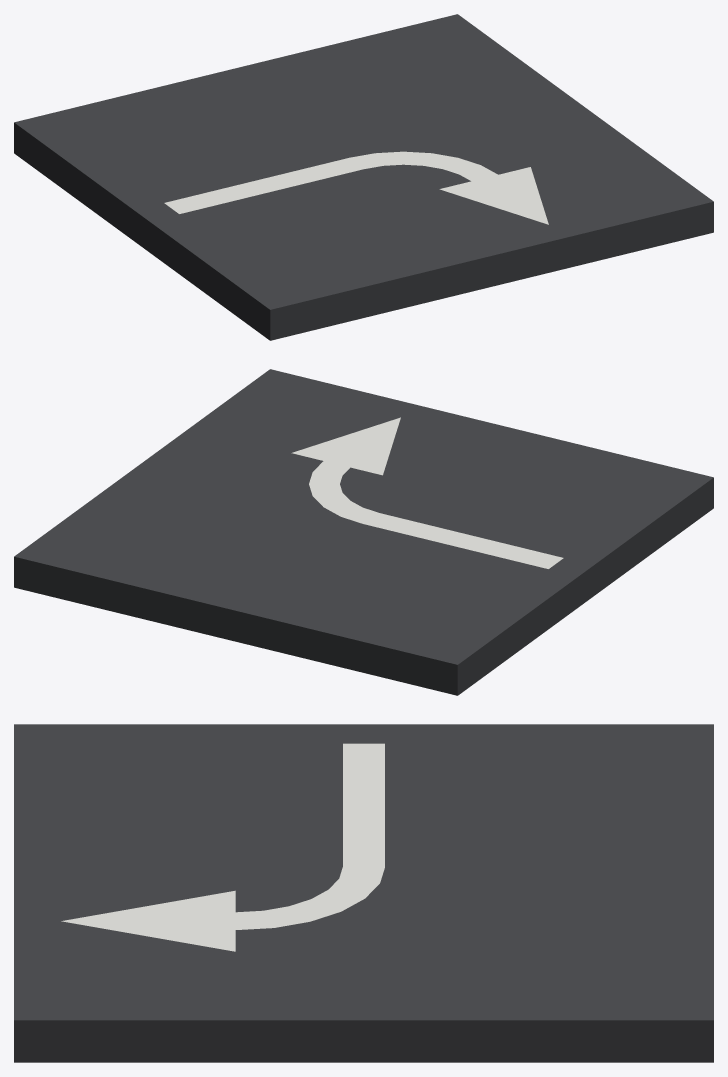
Rendered from SC_Gnd_Road_Arrow_Right.gltf.
3 renders of one model, top to bottom at view 1: azimuth 30°, elevation 25°; view 2: azimuth 150°, elevation 25°; view 3: azimuth 270°, elevation 25°, orthographic. The views are drawn at different scales.
Parts seen in each view (by area): view 1: SC_Gnd_Road_Arrow_Right; view 2: SC_Gnd_Road_Arrow_Right; view 3: SC_Gnd_Road_Arrow_Right.
Boxes of the visible parts, x1=… form: SC_Gnd_Road_Arrow_Right: x1=14, y1=14, x2=713, y2=340; SC_Gnd_Road_Arrow_Right: x1=14, y1=369, x2=713, y2=695; SC_Gnd_Road_Arrow_Right: x1=14, y1=724, x2=713, y2=1062.
Bounding box in the file's own units: 3 × 0.202 × 3.
1 material, 1 textured.
